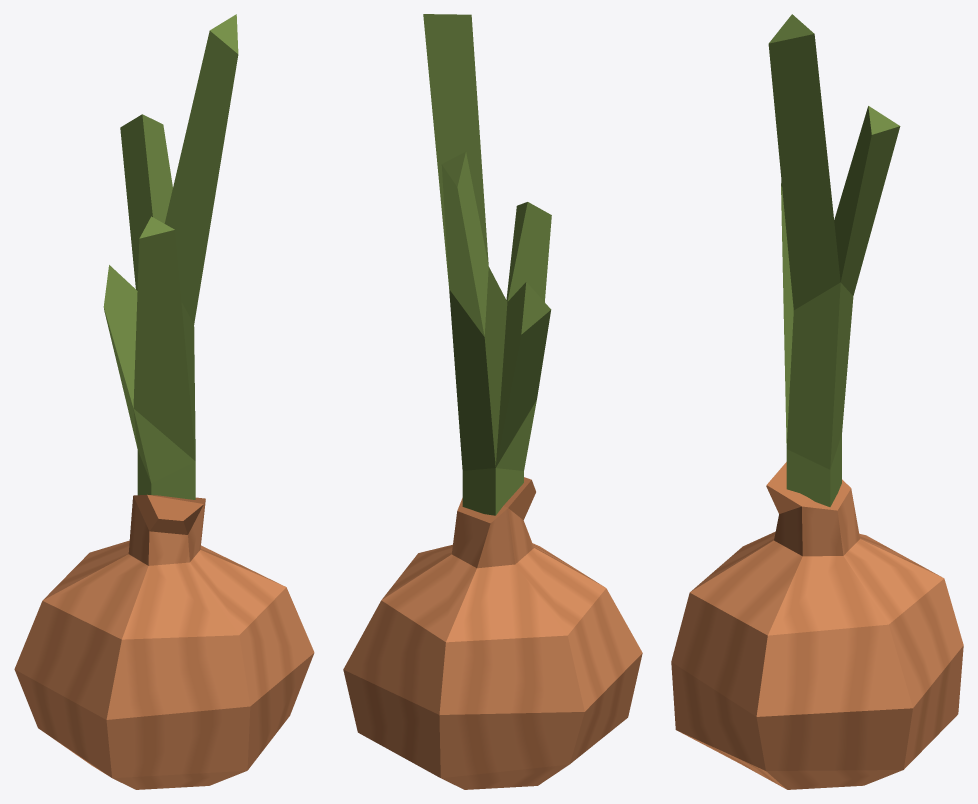
The model's file is SM_Prop_Onion_01_M.glb.
3 renders of one model, left to right at view 1: azimuth 30°, elevation 25°; view 2: azimuth 150°, elevation 25°; view 3: azimuth 270°, elevation 25°, orthographic. The views are drawn at different scales.
Parts seen in each view (by area): view 1: SM_Prop_Onion_01_M; view 2: SM_Prop_Onion_01_M; view 3: SM_Prop_Onion_01_M.
Boxes of the visible parts, x1,y1,x2,y2 form: SM_Prop_Onion_01_M: (14,14,314,789); SM_Prop_Onion_01_M: (343,14,642,789); SM_Prop_Onion_01_M: (671,14,963,789).
Bounding box in the file's own units: 0.1165 × 0.3421 × 0.1169.
1 material, 1 textured.
